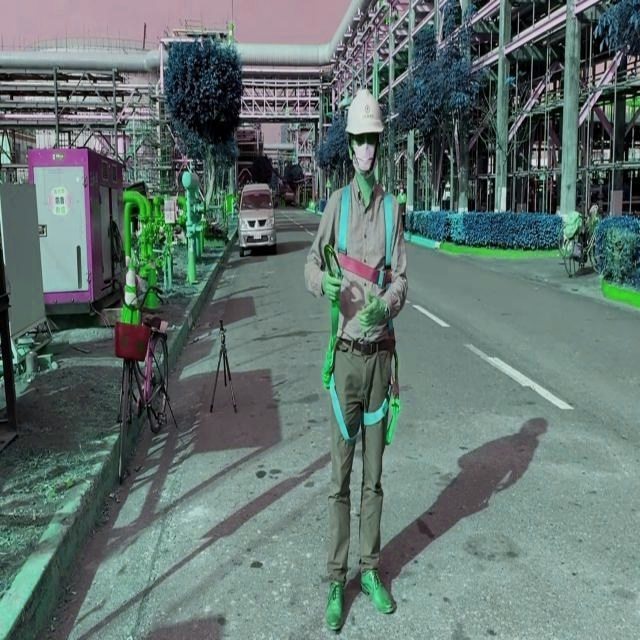safety belt: (323, 184, 420, 451)
